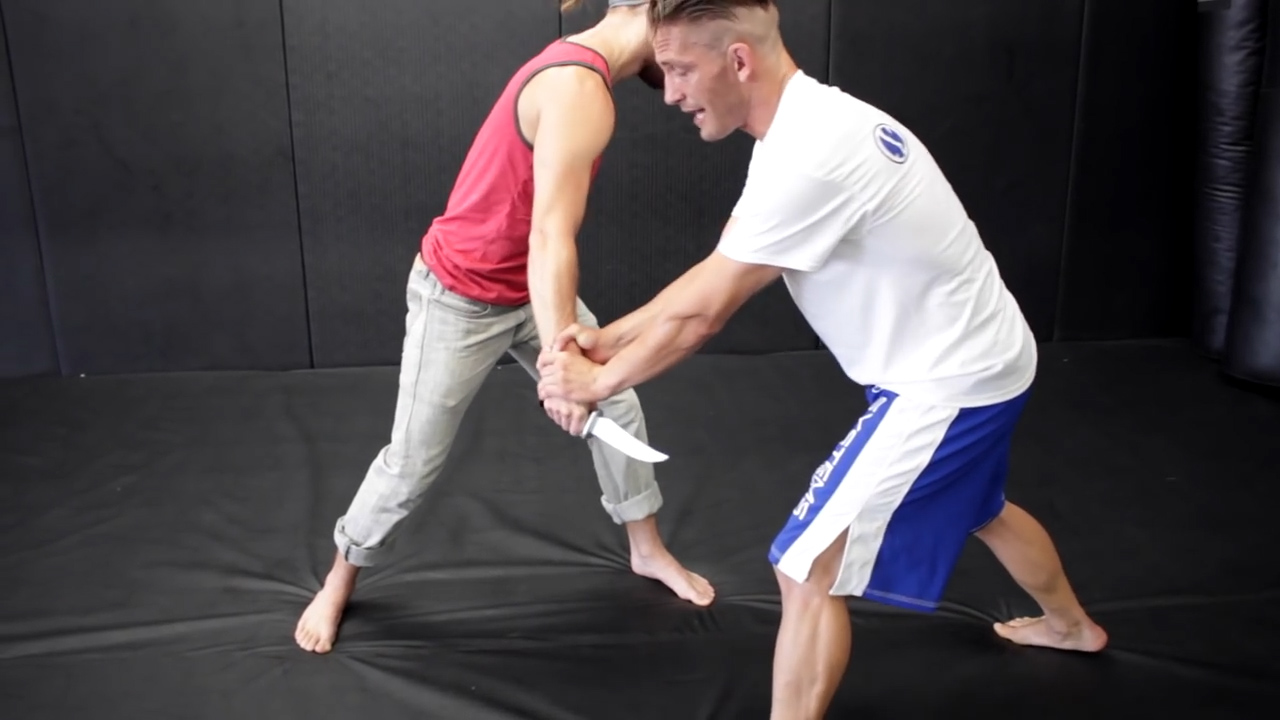knife: (535, 395, 675, 469)
